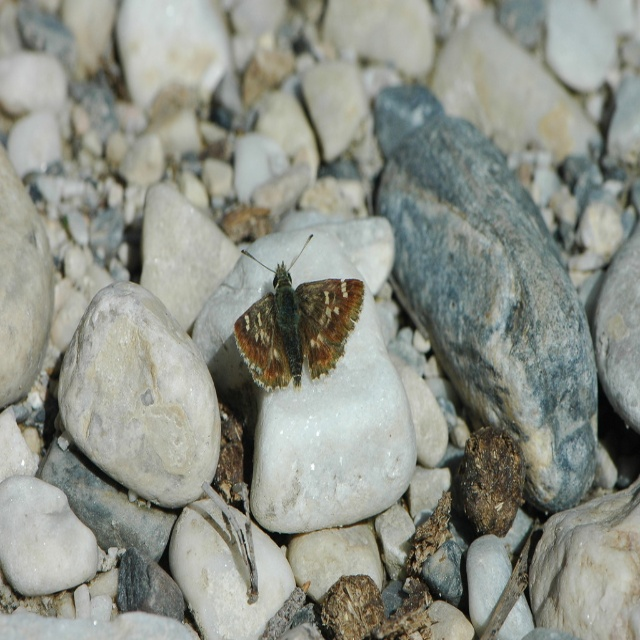Butterfly: (219, 238, 364, 412)
